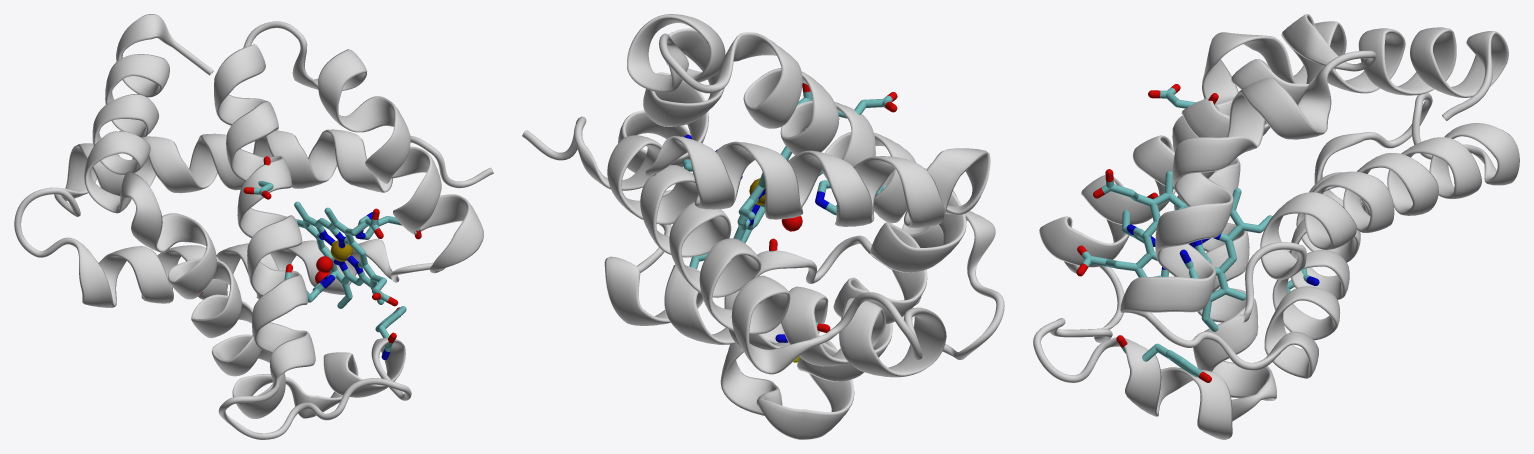
File: frame27.gltf
3 renders of one model, left to right at view 1: azimuth 30°, elevation 25°; view 2: azimuth 150°, elevation 25°; view 3: azimuth 270°, elevation 25°, orthographic. The views are drawn at different scales.
Visible parts, largest first — view 1: vmd_mol27_rep3, vmd_mol27_rep2, vmd_mol27_rep1; view 2: vmd_mol27_rep3, vmd_mol27_rep1, vmd_mol27_rep2; view 3: vmd_mol27_rep3, vmd_mol27_rep2, vmd_mol27_rep1.
Boxes of the visible parts, box(x1,y1,x2,y2) form: vmd_mol27_rep3: box(14, 14, 493, 439); vmd_mol27_rep2: box(294, 201, 398, 308); vmd_mol27_rep1: box(200, 156, 421, 359); vmd_mol27_rep3: box(522, 14, 1004, 439); vmd_mol27_rep1: box(682, 92, 897, 362); vmd_mol27_rep2: box(733, 83, 822, 243); vmd_mol27_rep3: box(1033, 14, 1519, 439); vmd_mol27_rep2: box(1076, 169, 1272, 331); vmd_mol27_rep1: box(1116, 84, 1319, 382).
Bounding box in the file's own units: 1.41 × 1.17 × 1.28.
